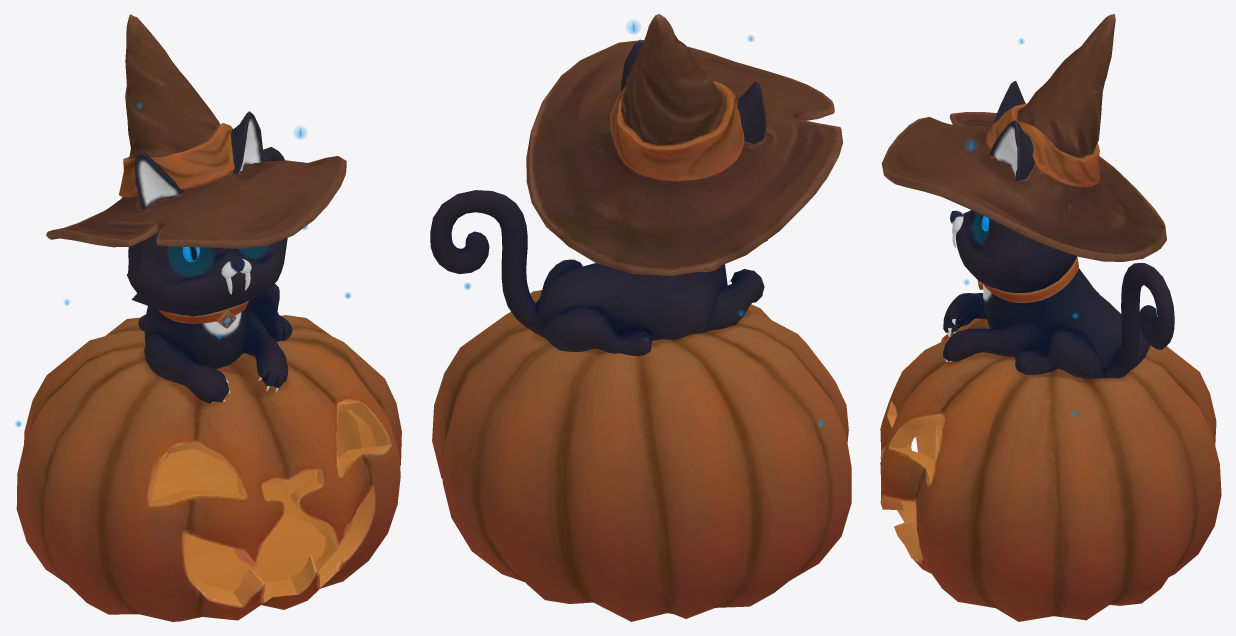
File: the_halloween_cat-transformed.glb
3 renders of one model, left to right at view 1: azimuth 30°, elevation 25°; view 2: azimuth 150°, elevation 25°; view 3: azimuth 270°, elevation 25°, orthographic. The views are drawn at different scales.
Visible parts, largest first — view 1: Object_2; view 2: Object_2; view 3: Object_2.
Part boxes in pixels (<box>): Object_2: <box>16,14,401,621</box>; Object_2: <box>430,14,851,621</box>; Object_2: <box>880,14,1221,621</box>.
Size of the model in its own units: 297 by 447 by 255.
Materials: 2 (2 with a texture image).
